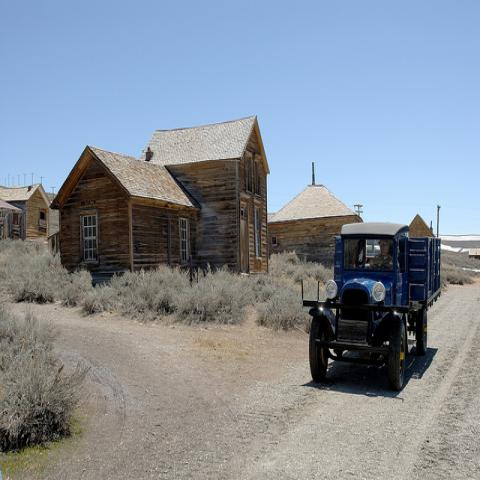truck: (301, 224, 442, 393)
